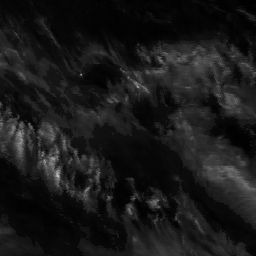Target: (79, 71, 83, 76)
